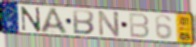6: (154, 14, 174, 41)
A: (39, 7, 70, 36)
B: (72, 9, 96, 36), (128, 12, 151, 40)
N: (97, 9, 121, 38), (20, 5, 42, 33)
